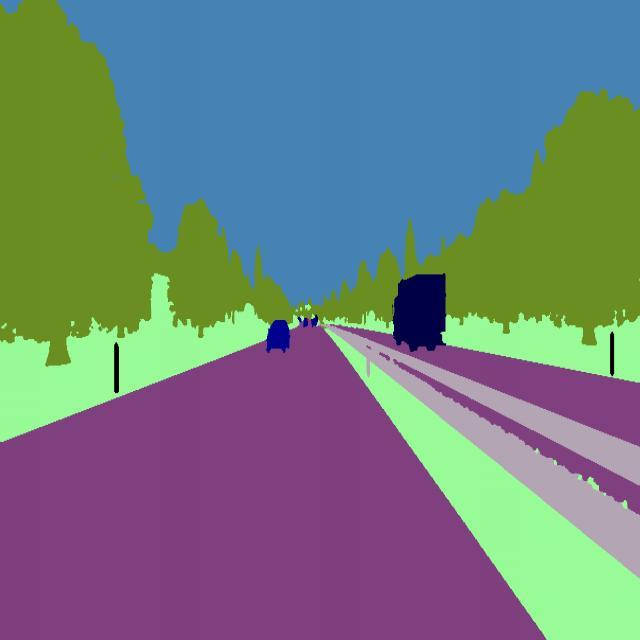safe: (388, 272, 448, 356), (265, 318, 292, 358)
